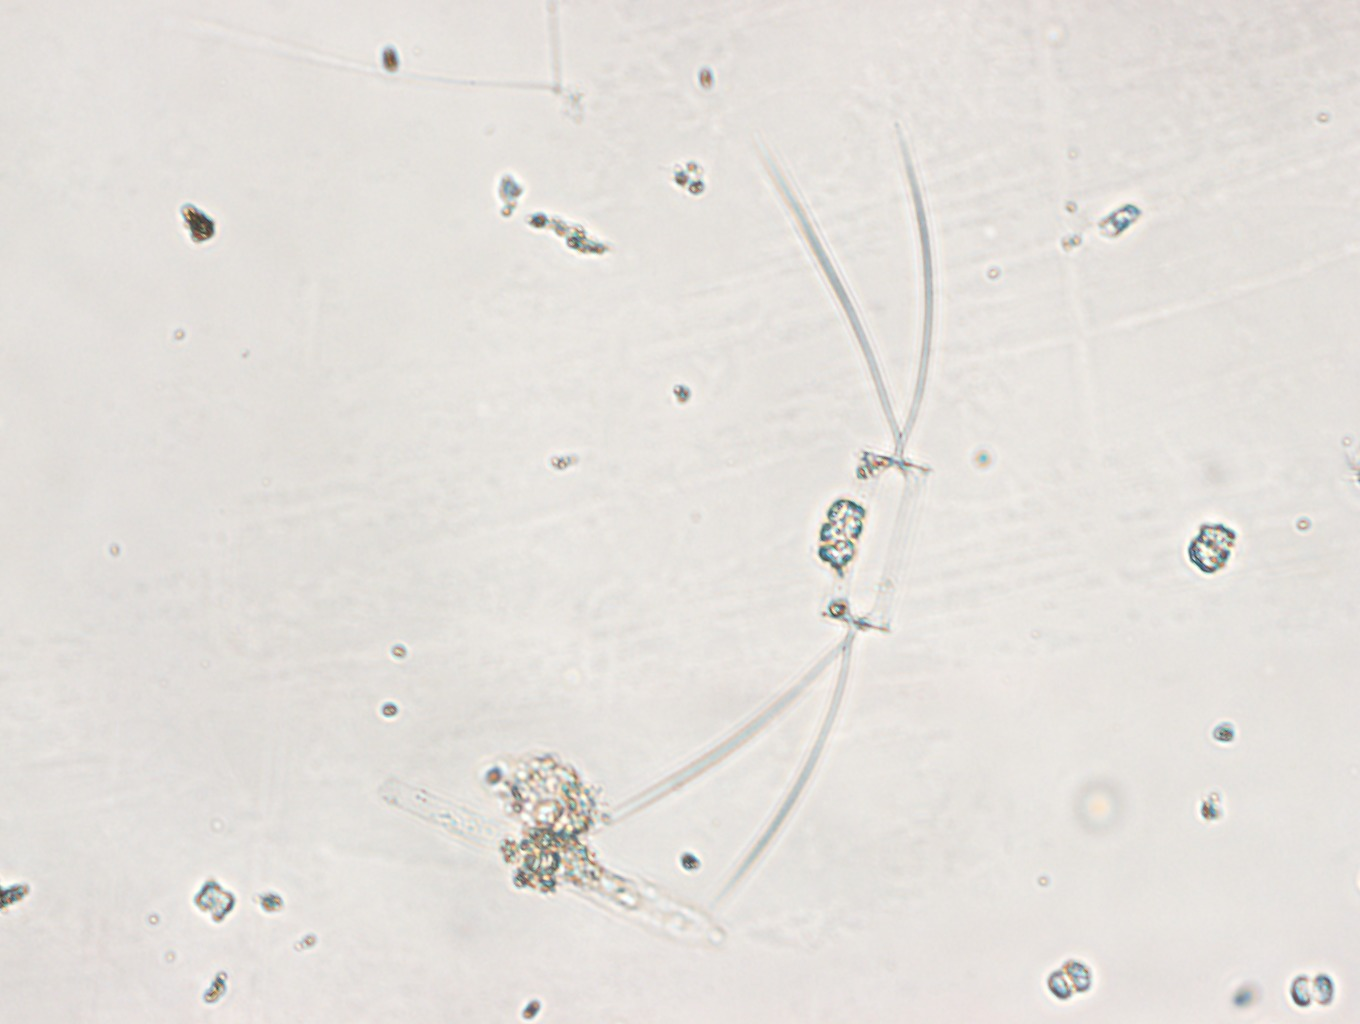chaetoceros: (588, 118, 944, 930)
